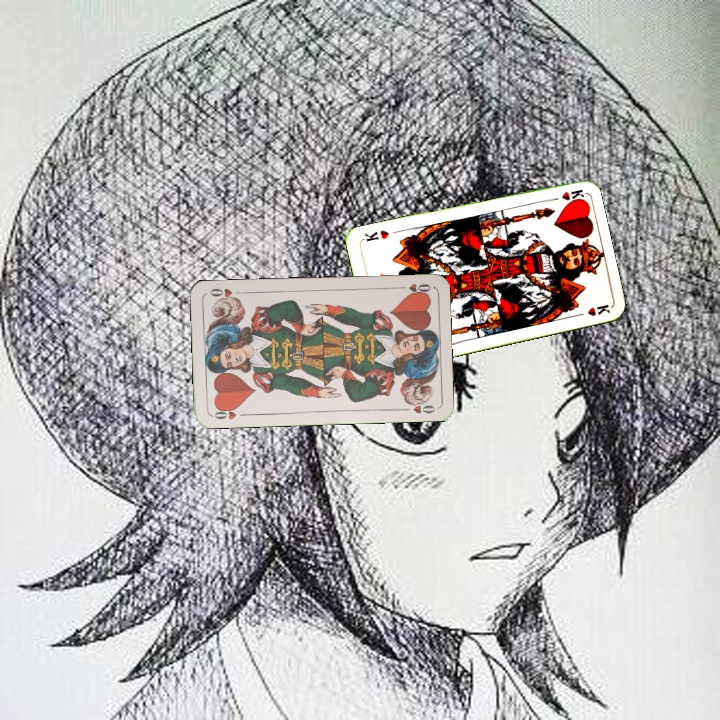HK: (544, 185, 585, 204)
HO: (209, 403, 249, 422), (393, 279, 434, 297)
